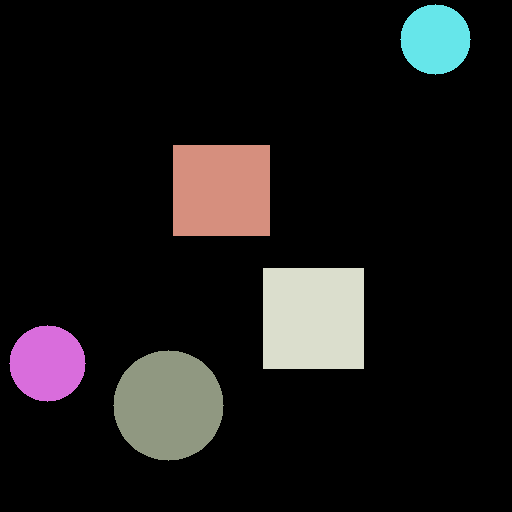circle: (113, 350, 223, 460), (9, 325, 85, 401), (400, 4, 470, 74)
square: (263, 268, 363, 368), (173, 145, 269, 235)
